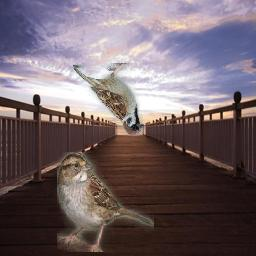Sparrow: (58, 152, 155, 252), (73, 64, 143, 137)
